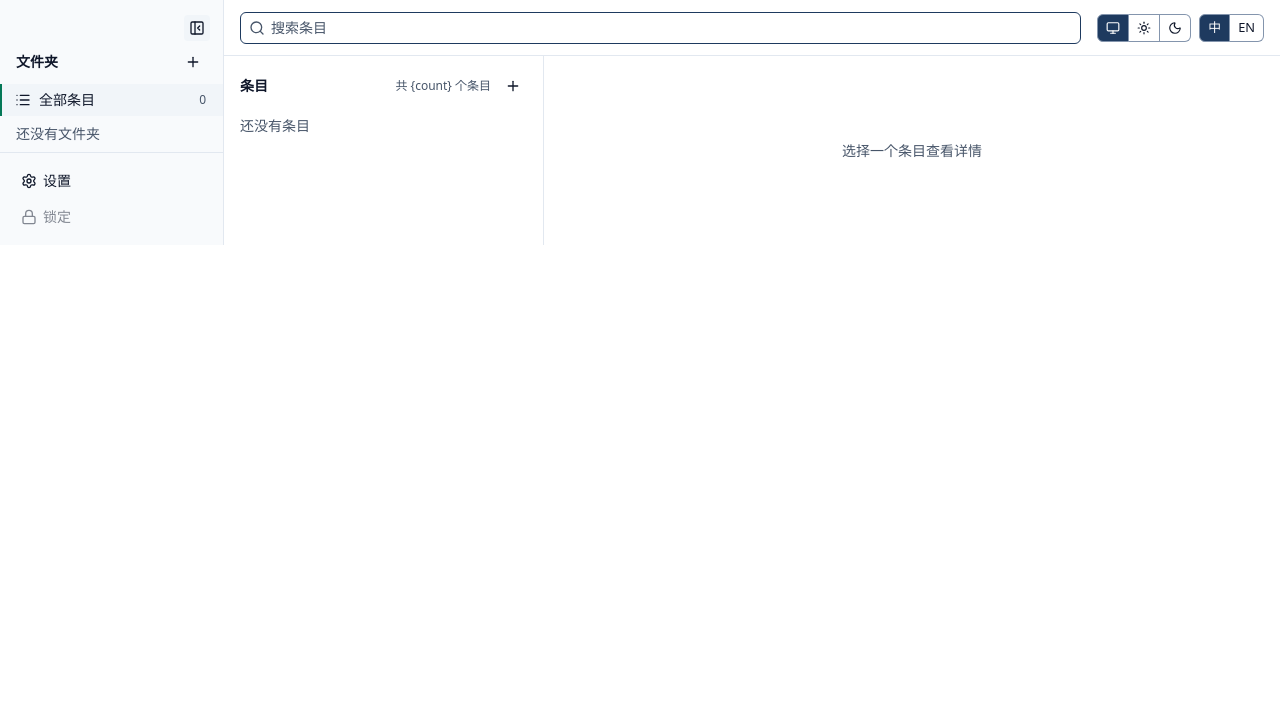
Test: 工作区里新建自定义类型并使用 › 已有的自定义类型在解锁读取后出现在新建的类型选择里
Step 1. Click the button named "新建条目" → x=513, y=86, box [499, 72, 527, 100]
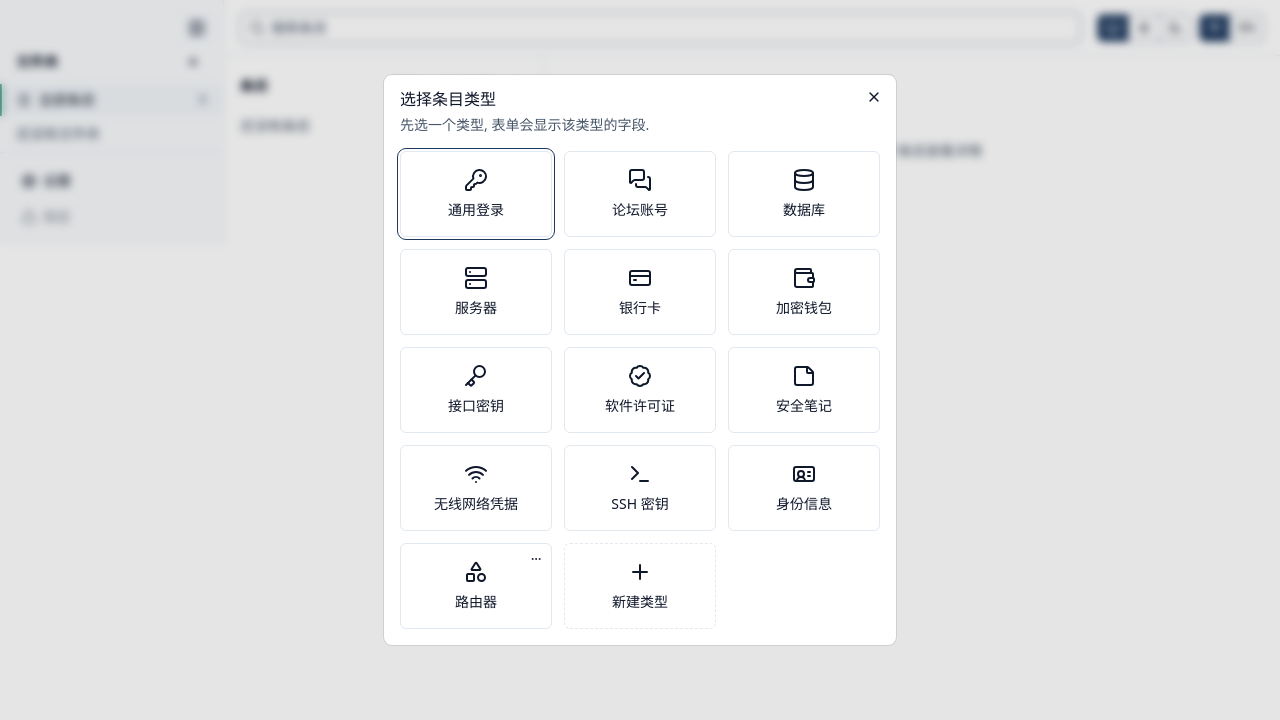
expect the button "路由器" is shown: met, box [400, 543, 552, 629]
